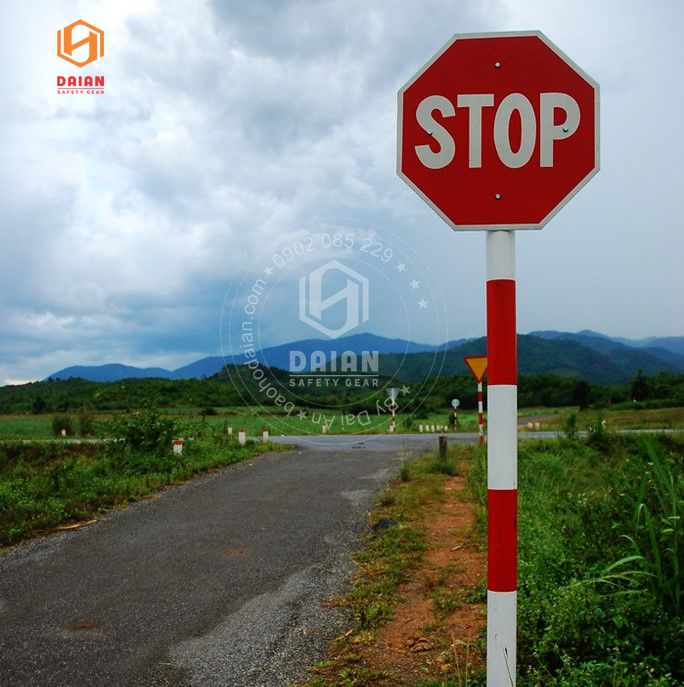Stop: (393, 28, 610, 236)
